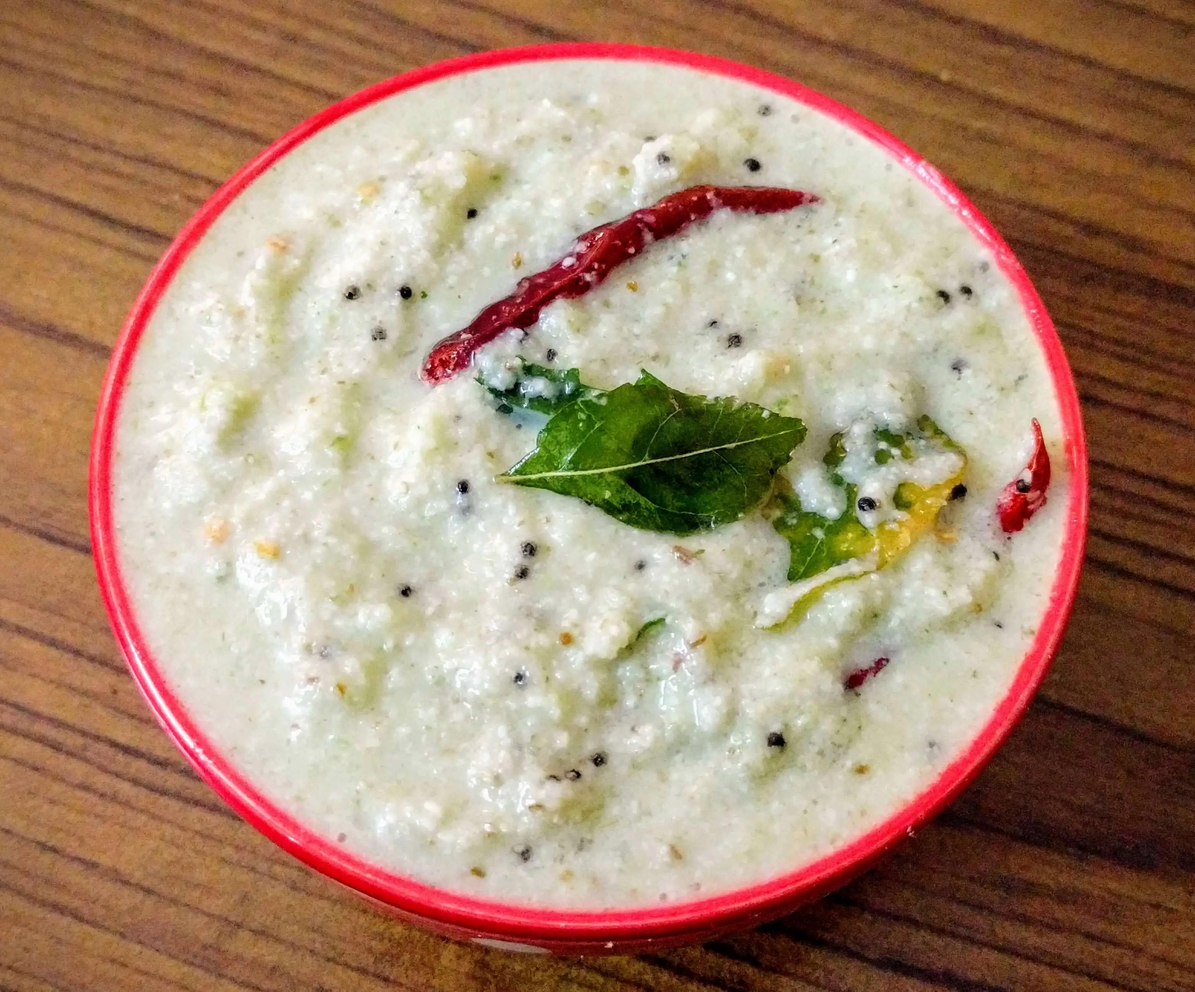CoconutChutney: (112, 56, 1071, 915)
